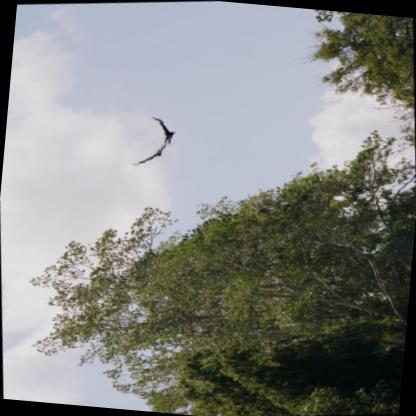bird: (125, 131, 174, 168), (144, 114, 181, 150)
